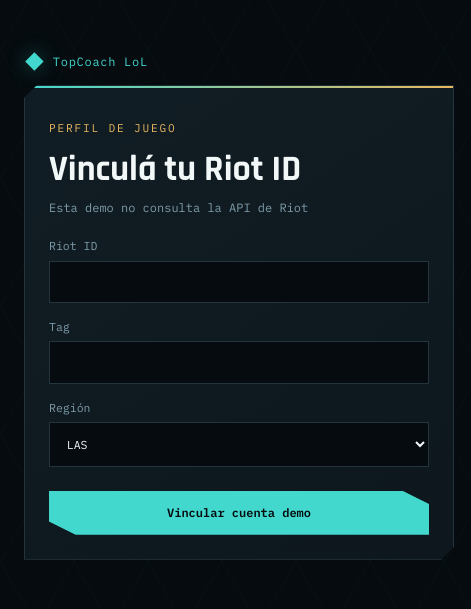
Test case: public journey › keeps account linking in context when required fields are empty
Click the button "Vincular cuenta demo" at point(239, 513), box [49,491,429,535]
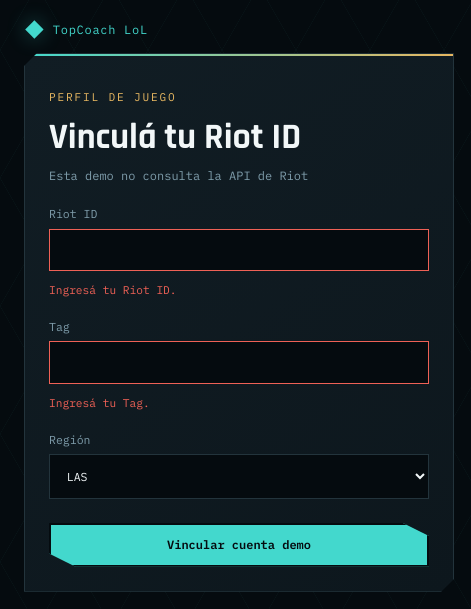
expect the number of messages is 2: met, box [49,283,176,297]; [49,396,150,410]
